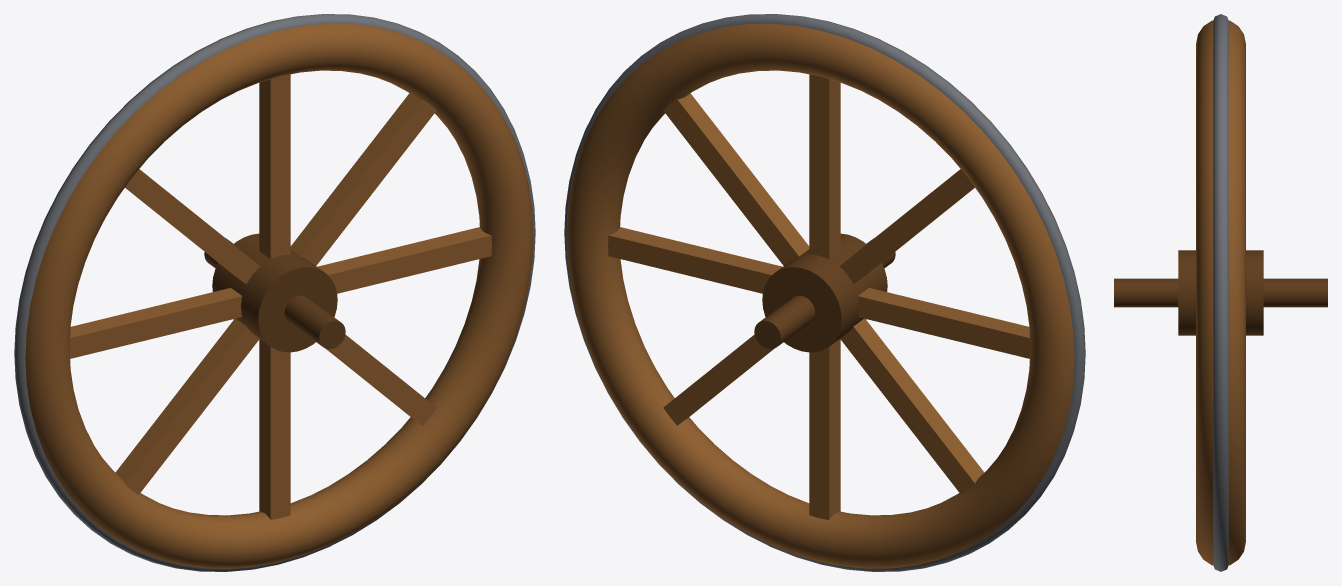
Rendered from wheel.glb.
3 renders of one model, left to right at view 1: azimuth 30°, elevation 25°; view 2: azimuth 150°, elevation 25°; view 3: azimuth 270°, elevation 25°, orthographic. The views are drawn at different scales.
Parts seen in each view (by area): view 1: wheel; view 2: wheel; view 3: wheel.
Boxes of the visible parts, x1,y1,x2,y2 form: wheel: [14, 14, 535, 571]; wheel: [564, 14, 1085, 571]; wheel: [1114, 14, 1327, 571].
Size of the model in its own units: 0.784 by 0.784 by 0.3.
